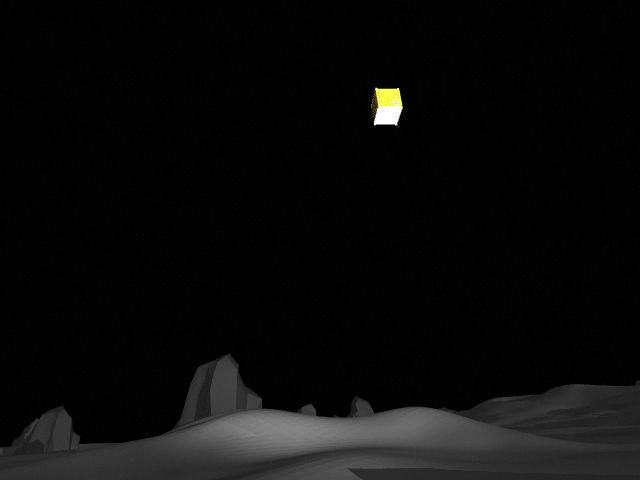cubesat: (367, 84, 407, 130)
